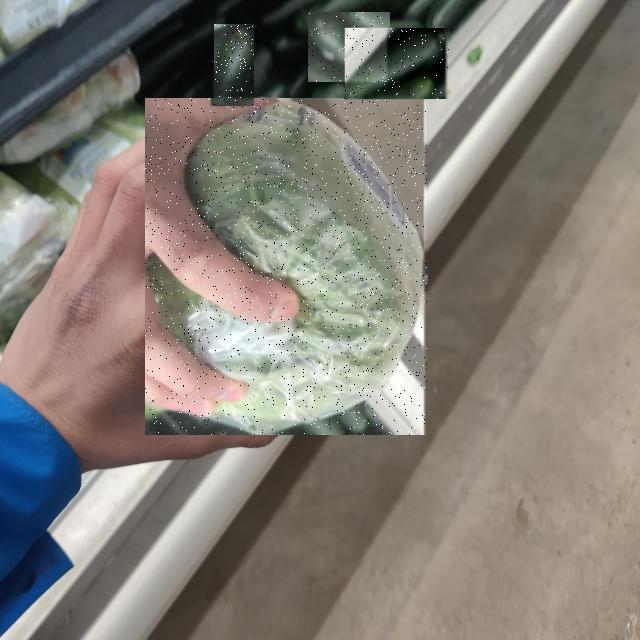Cabbage: (146, 98, 428, 435)
Cucumber: (346, 28, 450, 99), (308, 12, 390, 82), (214, 24, 254, 106)
